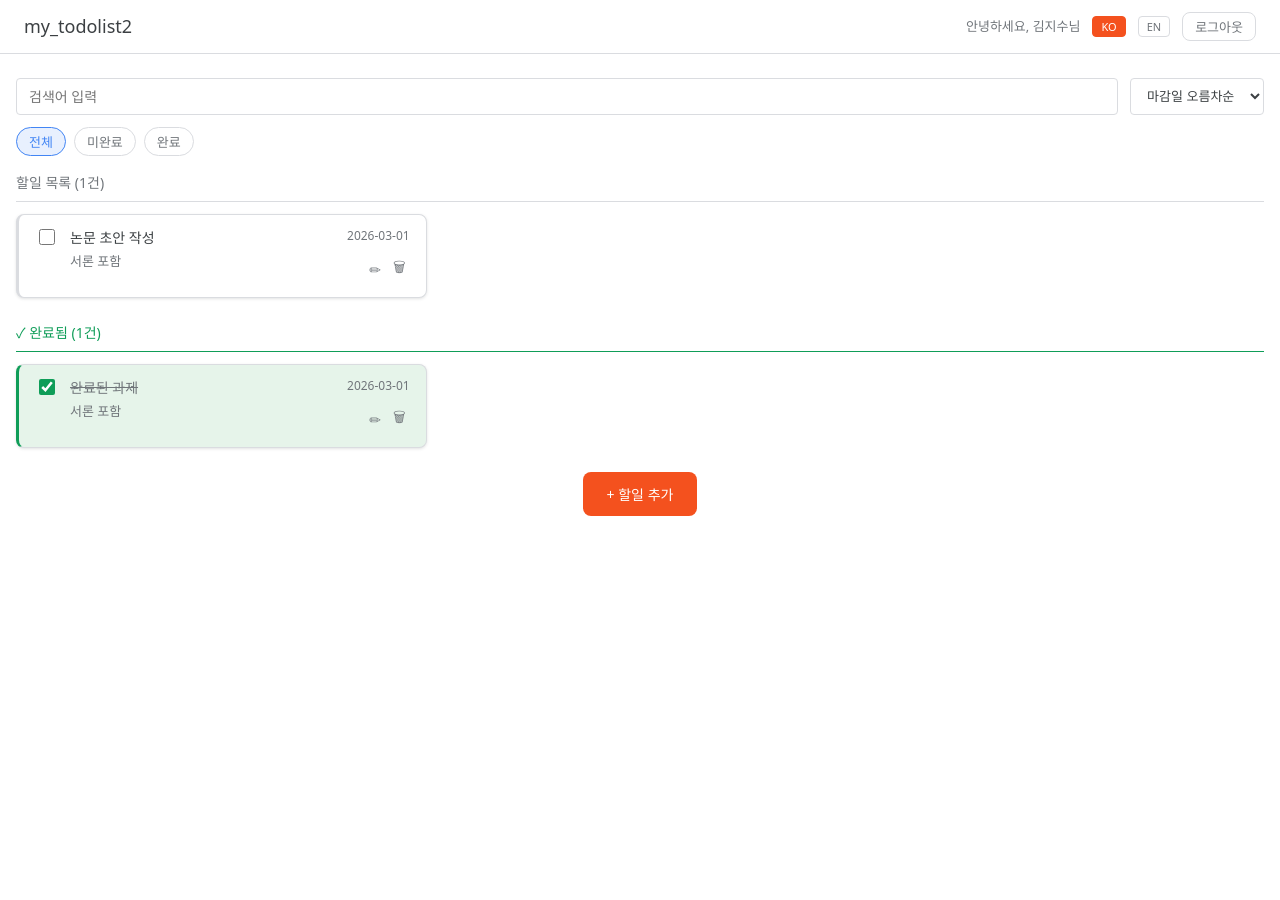
Test: FE-09: 할일 수정 › 수정 취소 시 모달이 닫힌다
Expected: the text "논문 초안 작성" is shown, [70,228,155,247]
Click the button named "수정" at (375, 269), box [365,253,385,285]
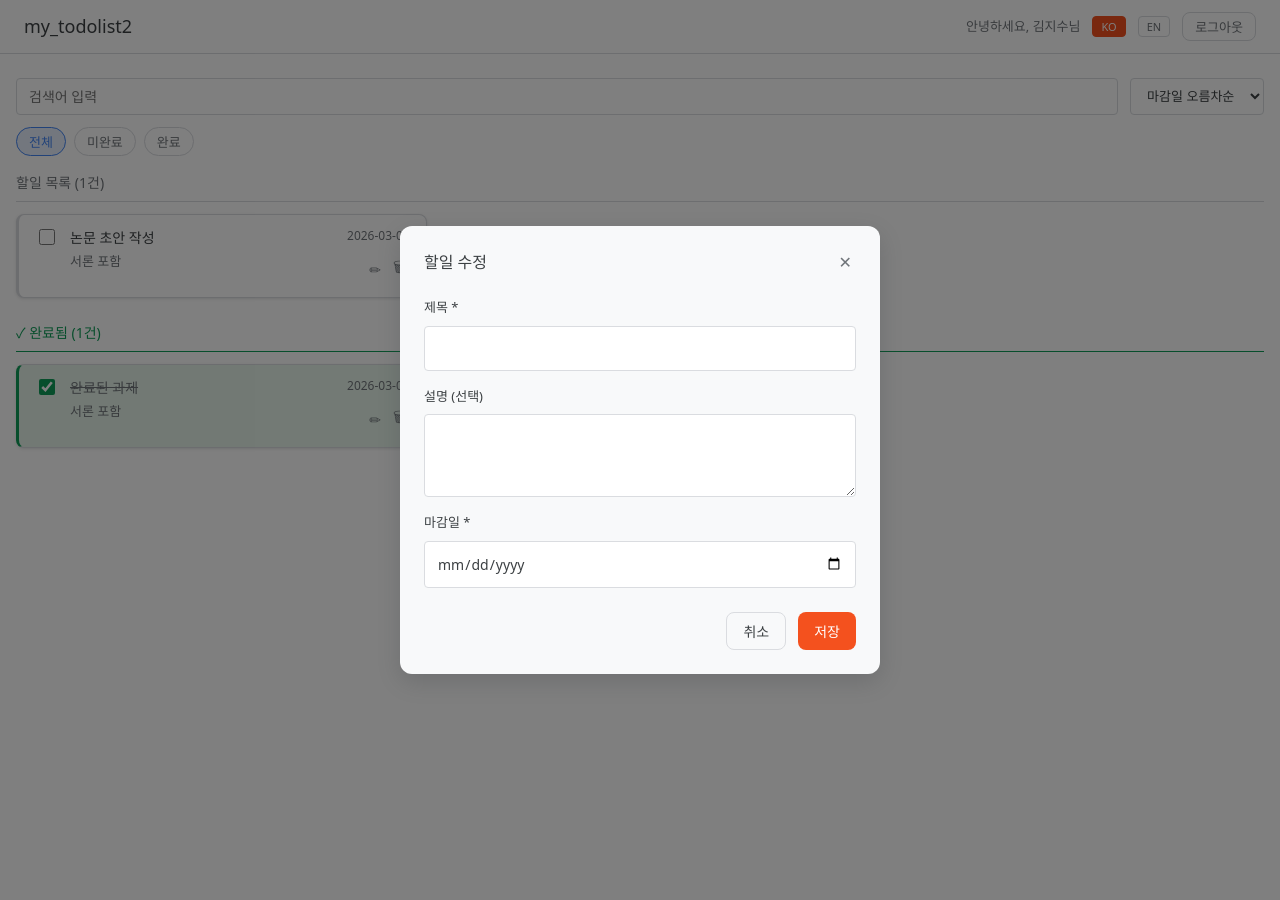
Now the heading "할일 수정" is shown, box [424,250,487,274]
Click the button "취소" at (756, 631), box [726,612,786,650]
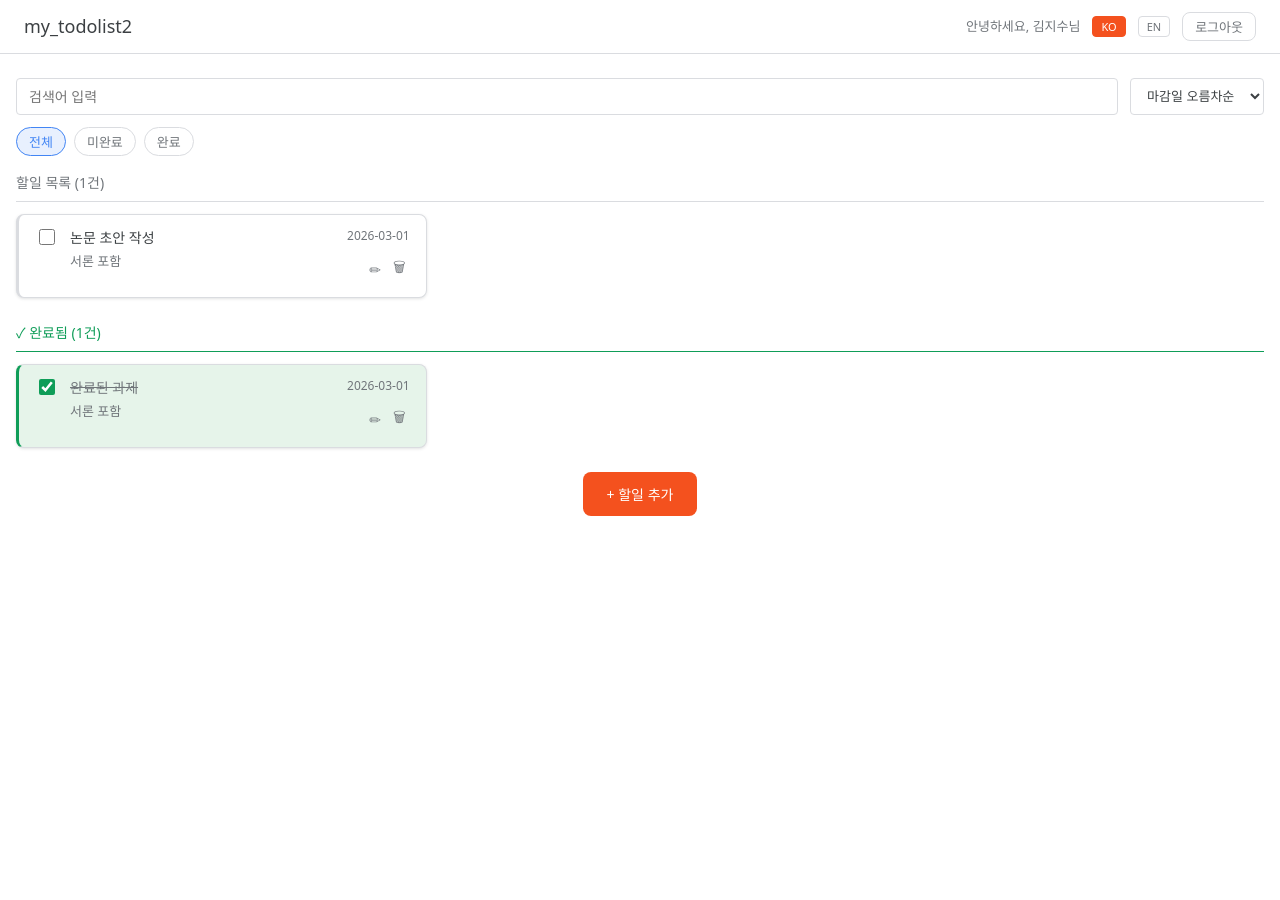
Now the heading "할일 수정" is gone
